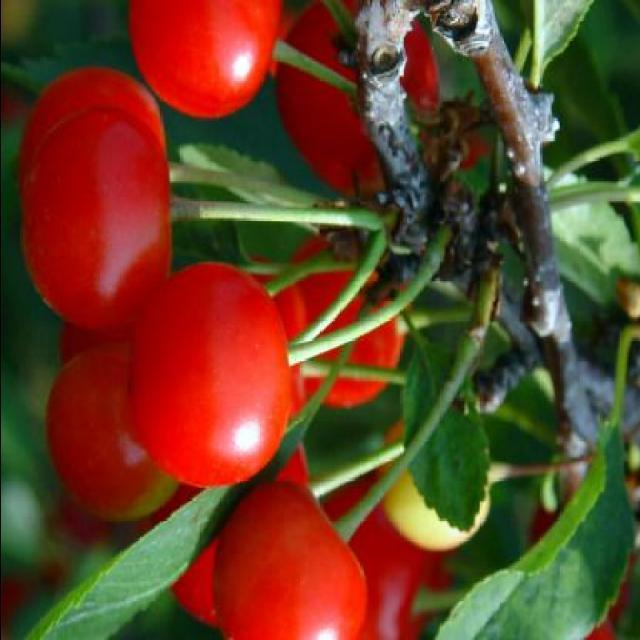Tomato: (128, 258, 292, 490)
